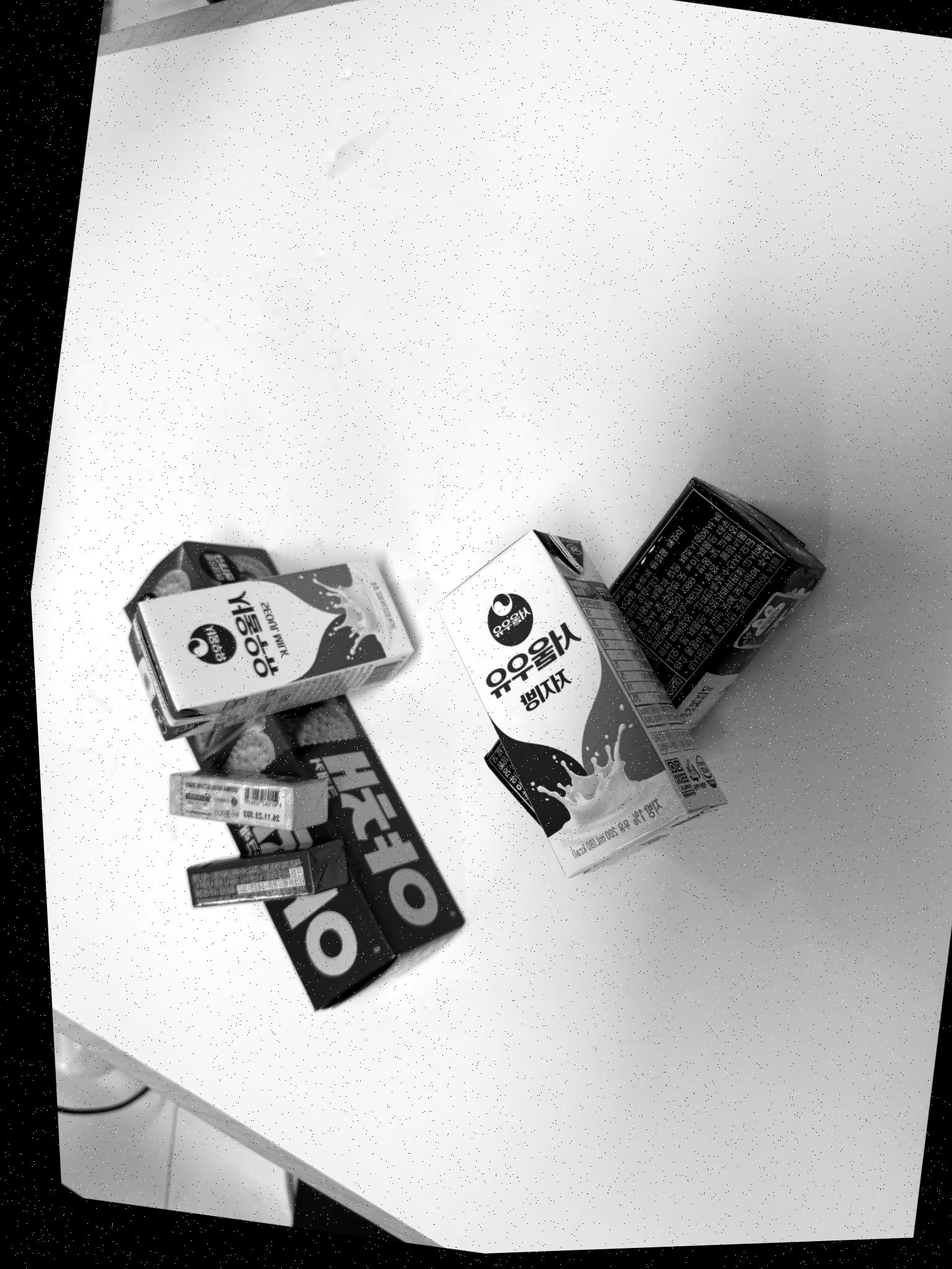cracker_ace: (605, 475, 824, 739)
cracker_vege: (181, 695, 467, 1008), (120, 541, 279, 618)
gum_green: (188, 840, 348, 907)
gum_yellow: (170, 771, 329, 832)
milk_blue: (439, 531, 725, 876)
milk_green: (130, 561, 413, 738)
